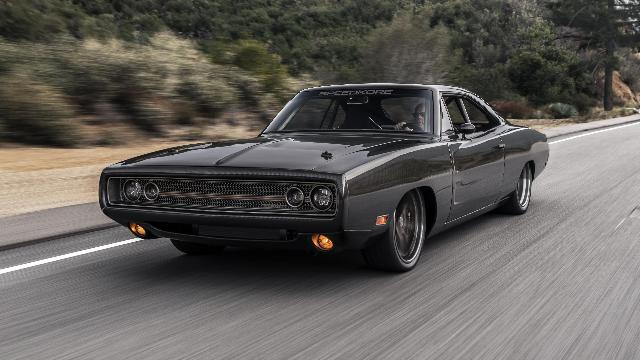dodge: (98, 82, 550, 272)
